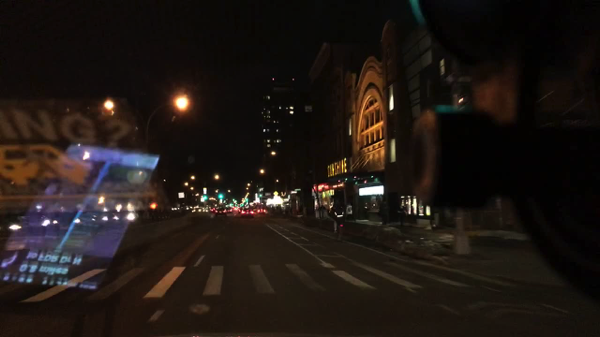bike: (330, 217, 346, 244)
car: (4, 212, 60, 233), (71, 211, 110, 228), (112, 212, 143, 227), (240, 206, 256, 219), (214, 207, 228, 217), (256, 207, 269, 214), (227, 206, 232, 214)
rider: (329, 198, 347, 235)
traffic light: (218, 192, 223, 199), (203, 195, 207, 200)
traffic sign: (178, 191, 184, 200)
